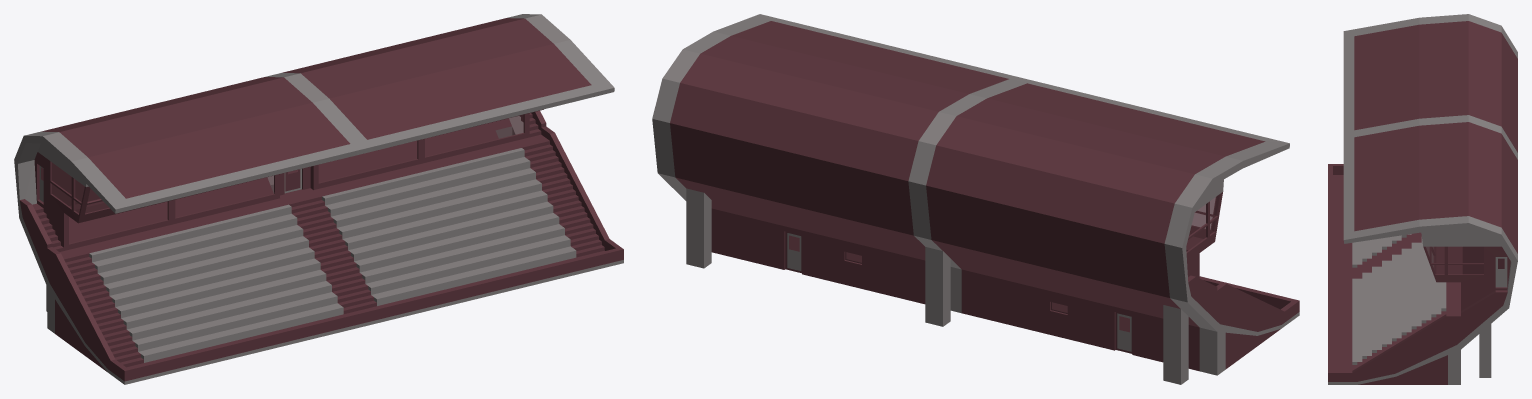
File: tribune-streight.fbx
The picture shows the model from 3 angles, left to right: view 1: azimuth 30°, elevation 25°; view 2: azimuth 150°, elevation 25°; view 3: azimuth 270°, elevation 25°; orthographic projection. The views are drawn at different scales.
Visible parts, largest first — view 1: tribune-streight; view 2: tribune-streight; view 3: tribune-streight.
Boxes of the visible parts, x1,y1,x2,y2 form: tribune-streight: (14,14,623,384); tribune-streight: (652,14,1299,384); tribune-streight: (1328,14,1517,384).
Size of the model in its own units: 30 by 10.84 by 11.52.
